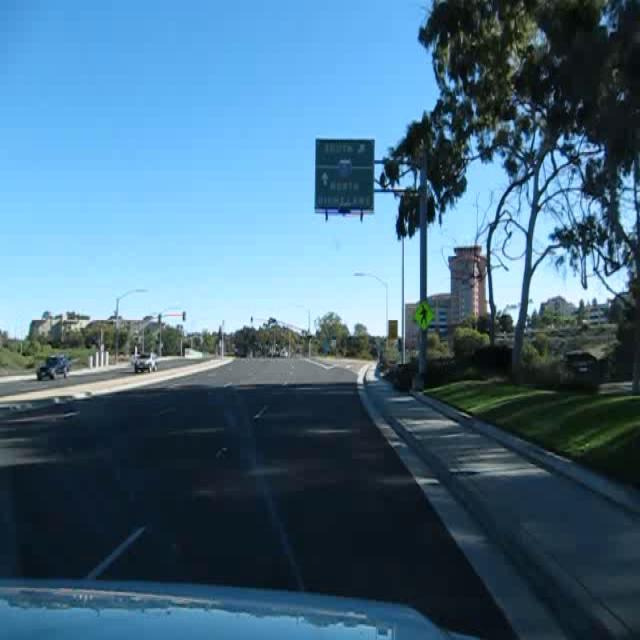pedestrianCrossing: (410, 299, 437, 332)
